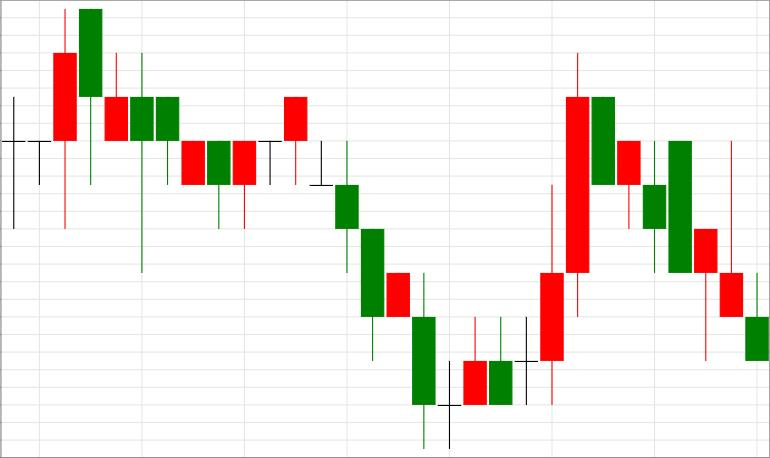morning_star_rise: (283, 97, 486, 449)
